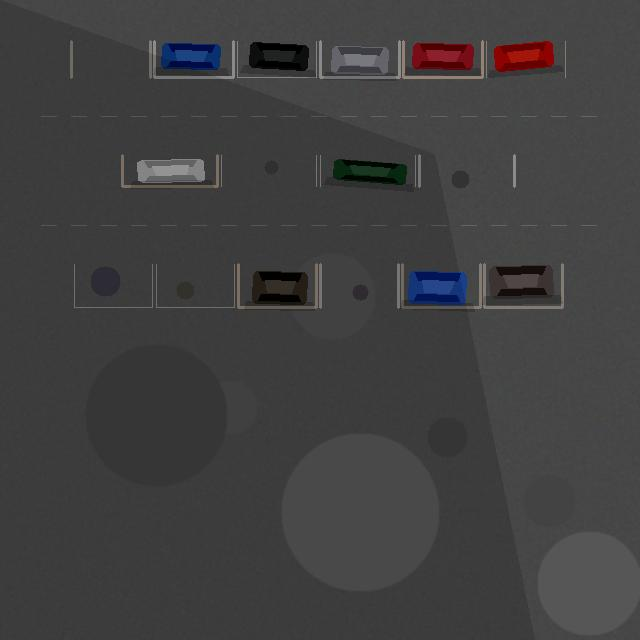space-empty: (74, 264, 152, 307), (156, 264, 234, 307), (320, 264, 398, 307), (221, 155, 316, 186), (419, 155, 514, 186), (71, 41, 150, 77)
space-occupied: (238, 264, 316, 307), (402, 264, 480, 307), (484, 264, 562, 307), (122, 155, 217, 186), (320, 155, 415, 186), (154, 41, 233, 77), (237, 41, 316, 77), (320, 41, 399, 77), (403, 41, 482, 77), (486, 41, 565, 77)
